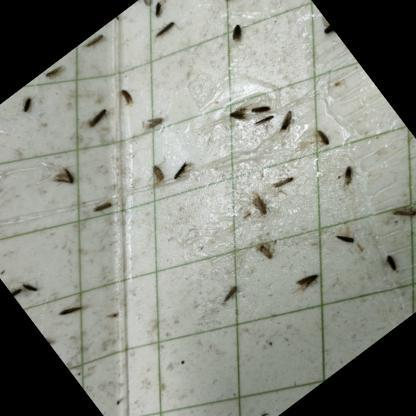prays_oleae: (147, 9, 194, 58), (39, 154, 85, 202), (240, 182, 284, 232), (76, 100, 121, 147), (216, 5, 260, 50), (264, 162, 302, 202), (329, 217, 366, 257), (385, 189, 416, 235), (52, 290, 90, 327), (290, 264, 328, 301), (82, 24, 119, 60), (85, 192, 120, 228), (214, 278, 249, 314), (271, 104, 305, 139), (220, 100, 254, 135), (382, 248, 415, 284), (330, 160, 364, 194), (164, 152, 197, 184), (40, 58, 72, 90), (308, 121, 338, 154), (146, 0, 177, 29), (144, 158, 172, 190), (3, 275, 30, 303), (12, 91, 40, 118), (254, 236, 280, 264), (252, 110, 280, 136), (18, 272, 43, 298), (142, 106, 166, 130), (116, 83, 139, 107), (247, 95, 270, 118), (316, 18, 338, 42), (211, 0, 247, 12)
